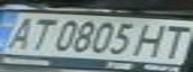0: (90, 19, 121, 55), (48, 17, 78, 53)
5: (109, 19, 148, 56)
8: (72, 18, 100, 55)
A: (0, 15, 42, 51)
H: (127, 20, 181, 58)
T: (154, 21, 193, 60), (21, 16, 60, 52)
